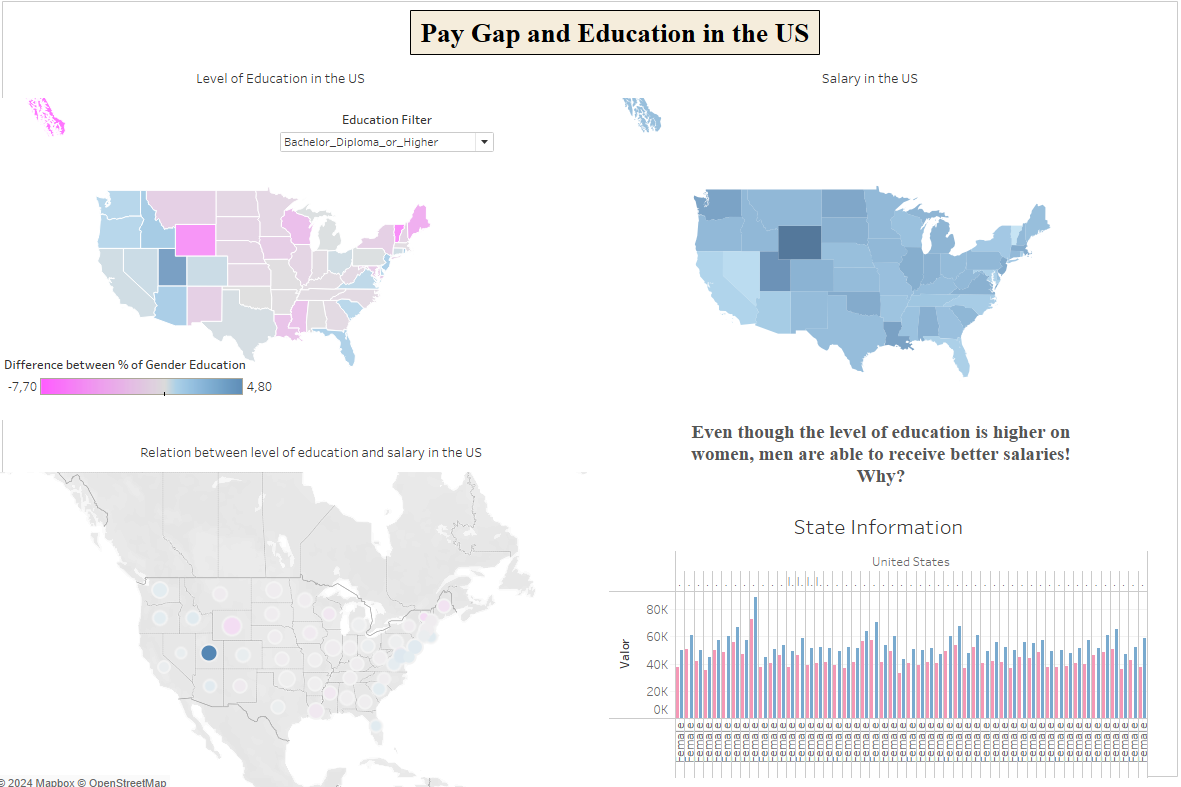

Layout of this report page (visuals, bound fields, positions):
{"tool":"tableau","page":{"name":"Painel 1","canvas":[1200,800],"ordinal":0},"visuals":[{"type":"image","box":[8,8,1184,784]},{"type":"text","box":[420,21,410,45]},{"type":"worksheet","title":"EarningsUS","mark":"Automatic","box":[583,76,594,356]},{"type":"parameter","param":"[Parameters].[Parâmetro 2]","box":[287,122,220,44]},{"type":"legend","title":"EarningsUS","param":"[federated.0r1x5ge0603gc311q45lj1jxh3pb].[none:state:nk]","box":[802,343,258,54]},{"type":"legend","title":"EducationUS ","param":"[federated.0r1x5ge0603gc311q45lj1jxh3pb].[usr:Calculation_1936266404610539536:qk","box":[14,367,273,58]},{"type":"text","box":[675,377,432,177]},{"type":"worksheet","title":"Cruzamento","mark":"Automatic","box":[1,450,640,353]},{"type":"worksheet","title":"Info Estado","mark":"Automatic","cols":["country (educationus)","state (educationus)"],"box":[619,519,539,271]},{"type":"legend","title":"Cruzamento","param":"[federated.0r1x5ge0603gc311q45lj1jxh3pb].[sum:difference:qk]","box":[448,702,104,101]}]}

Visuals, with their boxes in screenshot pixels (x1, y1, x2, y2), scaled from the page's 1200x800 canvas onto the 1181x787 screenshot:
image: [8,8,1173,779]
text: [413,21,817,65]
"EarningsUS" worksheet: [574,75,1158,425]
parameter: [282,120,499,163]
"EarningsUS" legend: [789,337,1043,391]
"EducationUS " legend: [14,361,282,418]
text: [664,371,1089,545]
"Cruzamento" worksheet: [1,443,631,786]
"Info Estado" worksheet: [609,511,1140,777]
"Cruzamento" legend: [441,691,543,786]
